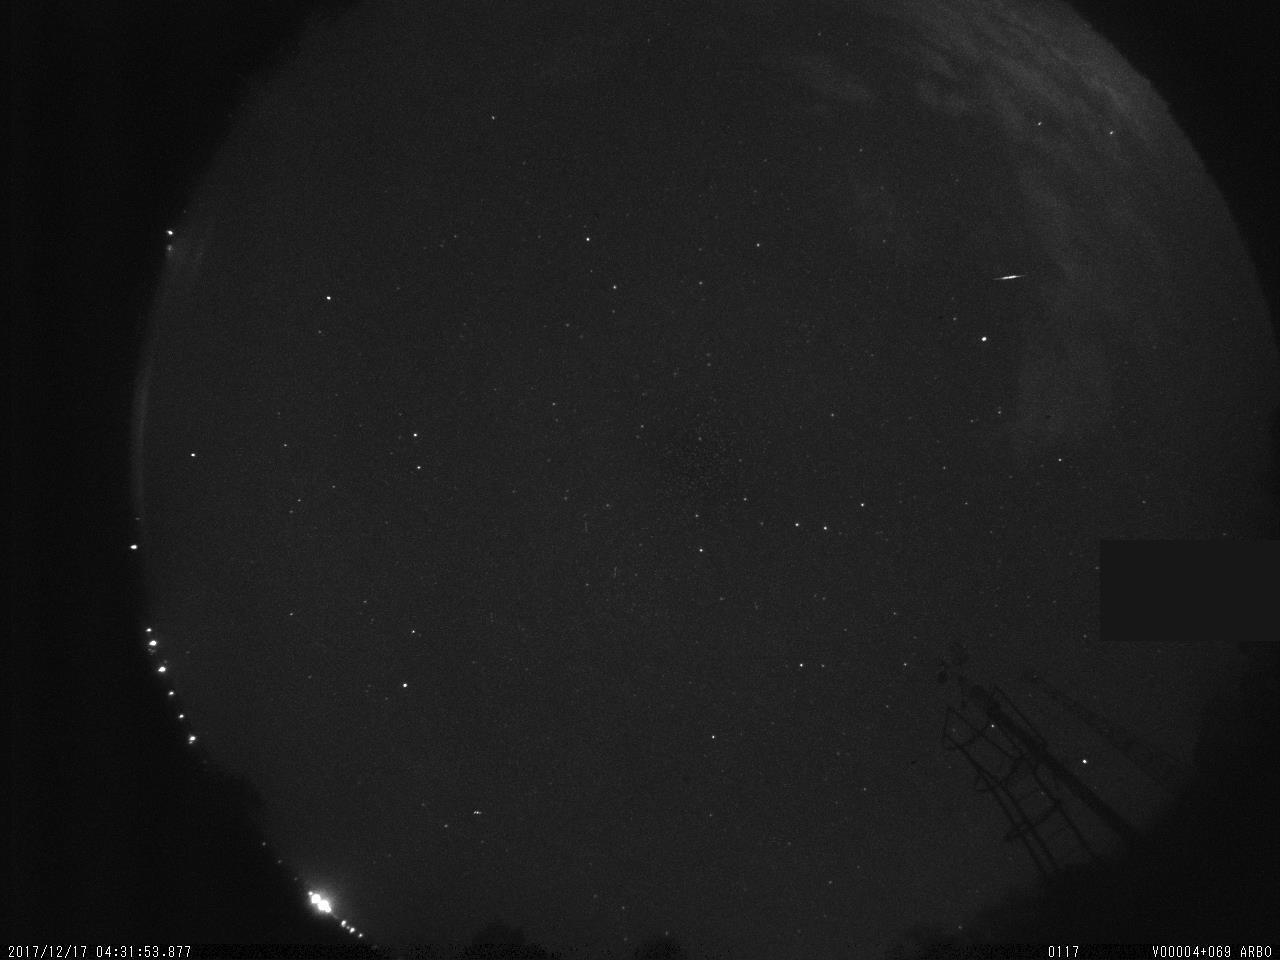meteor: (990, 268, 1028, 286)
